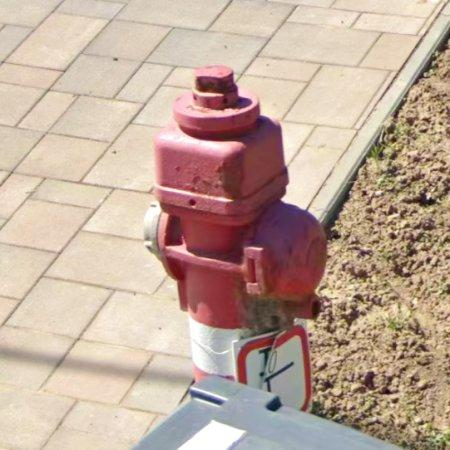a fire hydrant: (145, 65, 327, 410)
